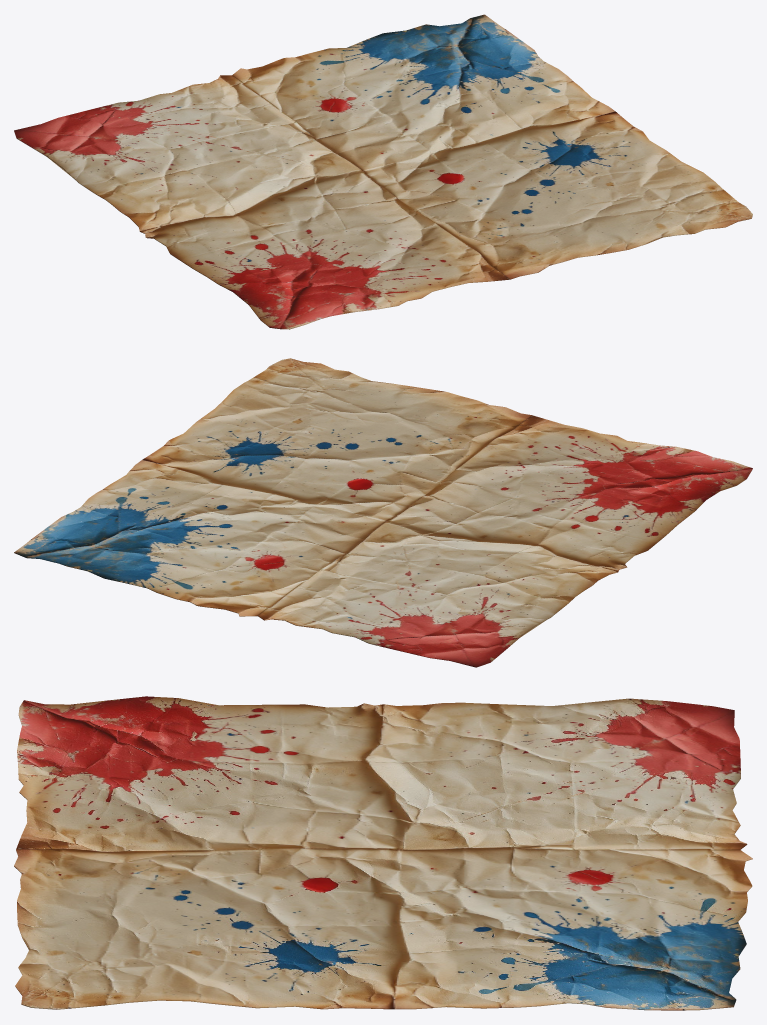
The model's file is Paper.fbx.
3 renders of one model, top to bottom at view 1: azimuth 30°, elevation 25°; view 2: azimuth 150°, elevation 25°; view 3: azimuth 270°, elevation 25°, orthographic. The views are drawn at different scales.
Visible parts, largest first — view 1: Plane.002; view 2: Plane.002; view 3: Plane.002.
Part boxes in pixels (x1,y1,x2,y2): Plane.002: (14, 14, 752, 329); Plane.002: (14, 358, 752, 667); Plane.002: (14, 696, 752, 1010).
Bounding box in the file's own units: 2430 × 36.07 × 2476.
